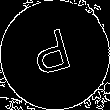P_S: (30, 26, 80, 84)
